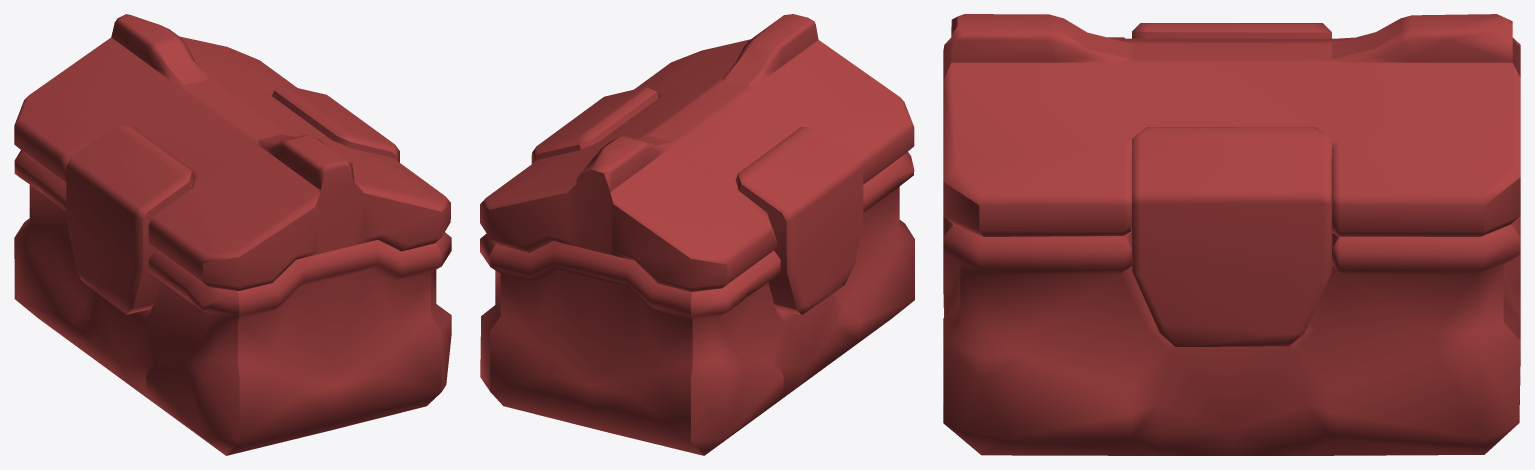
Rendered from HealthBox.fbx.
The picture shows the model from 3 angles, left to right: view 1: azimuth 30°, elevation 25°; view 2: azimuth 150°, elevation 25°; view 3: azimuth 270°, elevation 25°; orthographic projection. The views are drawn at different scales.
Parts seen in each view (by area): view 1: Bottom, Lid, Latch1, Latch2; view 2: Bottom, Lid, Latch1, Latch2; view 3: Bottom, Lid, Latch2, Latch1.
Part boxes in pixels (x1,y1,x2,y2): Bottom: [14, 150, 451, 455]; Lid: [14, 14, 450, 290]; Latch1: [66, 125, 194, 314]; Latch2: [272, 85, 399, 162]; Bottom: [480, 152, 914, 455]; Lid: [480, 14, 914, 291]; Latch1: [736, 127, 863, 315]; Latch2: [531, 87, 658, 163]; Bottom: [943, 216, 1520, 455]; Lid: [943, 14, 1520, 236]; Latch2: [1132, 127, 1331, 346]; Latch1: [1132, 23, 1331, 38].
Bounding box in the file's own units: 107 × 105 × 150.
